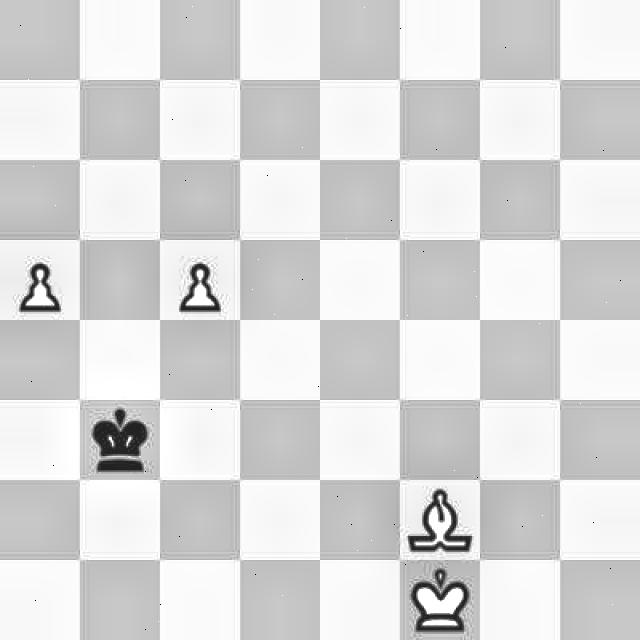black king: (81, 405, 157, 473)
white bishop: (404, 480, 476, 554)
white king: (408, 562, 473, 636)
white pawn: (165, 243, 232, 315), (1, 246, 64, 322)
